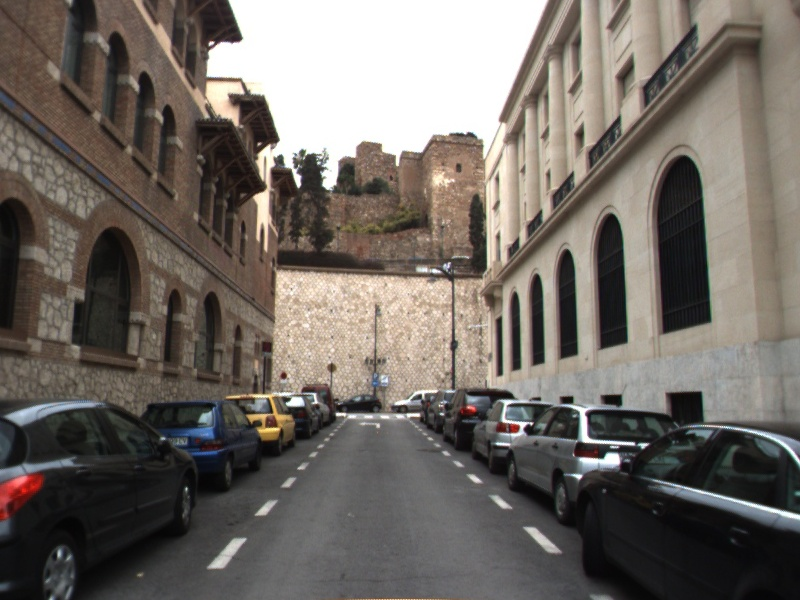LEFT: (357, 419, 382, 430)
